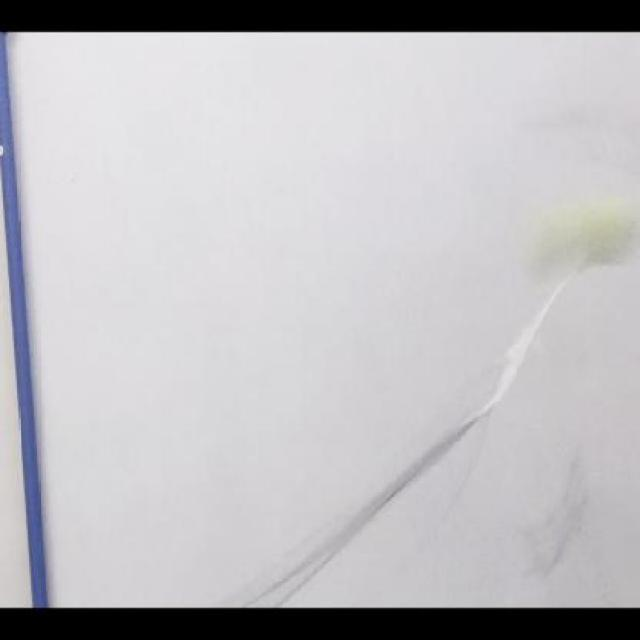baseball: (572, 190, 636, 272)
